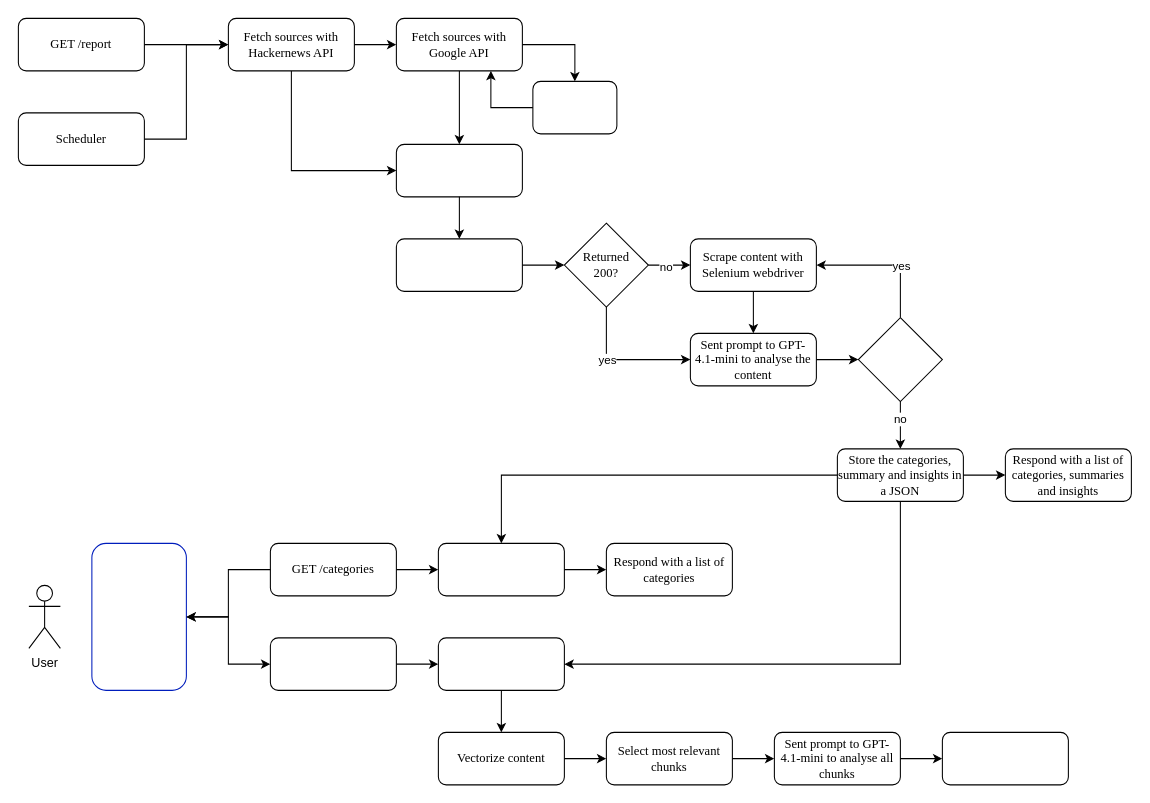
The diagram is 1150 pixels wide and 803 high, and some of its shapes have lost their labels. Each missing label, with the box of its shape:
Fetch sources with each query: (532, 80, 617, 134)
Issues with the content?: (857, 317, 942, 402)
Load all categories from latest JSON: (437, 542, 564, 596)
Load all data from latest JSON: (437, 637, 564, 690)
POST /rag {query}: (269, 637, 396, 690)
Remove duplicate sources: (395, 143, 522, 197)
Respond with an answer to the query: (941, 731, 1068, 785)
Scrape content with BeautifulSoup: (395, 238, 522, 291)
